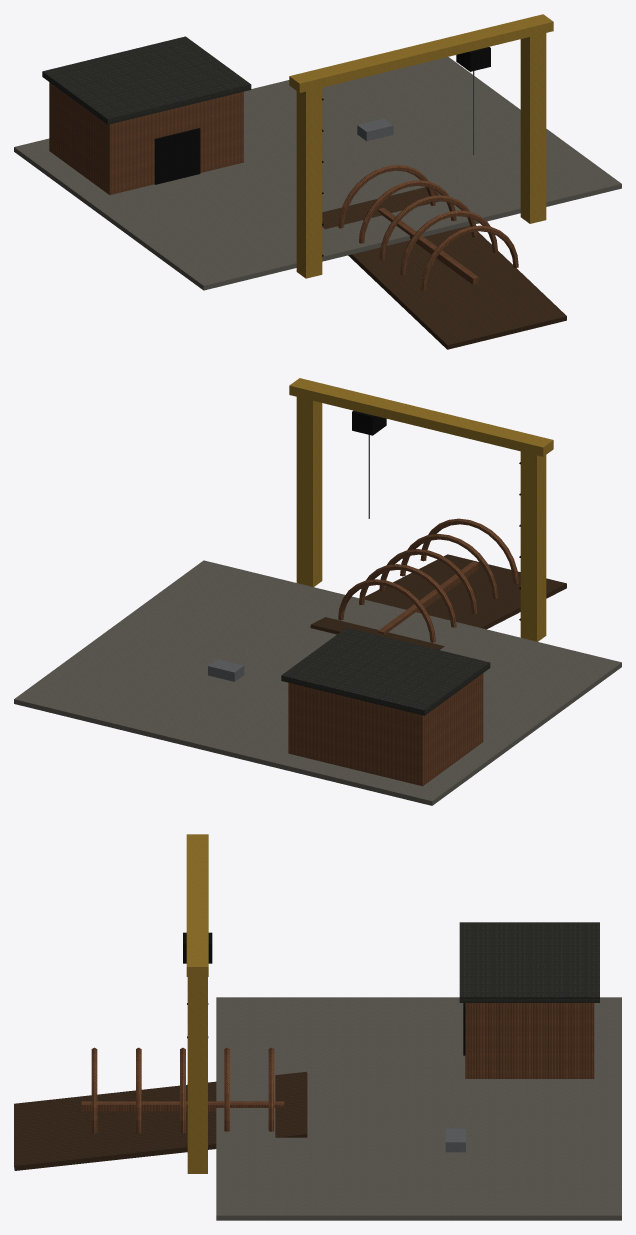
The model's file is era_shipyard_01.glb.
The picture shows the model from 3 angles, top to bottom: view 1: azimuth 30°, elevation 25°; view 2: azimuth 150°, elevation 25°; view 3: azimuth 270°, elevation 25°; orthographic projection. The views are drawn at different scales.
Parts seen in each view (by area): view 1: era_shipyard_01; view 2: era_shipyard_01; view 3: era_shipyard_01.
Boxes of the visible parts, left/top/right/bottom form: era_shipyard_01: left=14, top=14, right=621, bottom=349; era_shipyard_01: left=14, top=378, right=621, bottom=805; era_shipyard_01: left=14, top=834, right=621, bottom=1220.
Bounding box in the file's own units: 28 × 14.3 × 32.96.
Materials: 7 (7 with a texture image).
